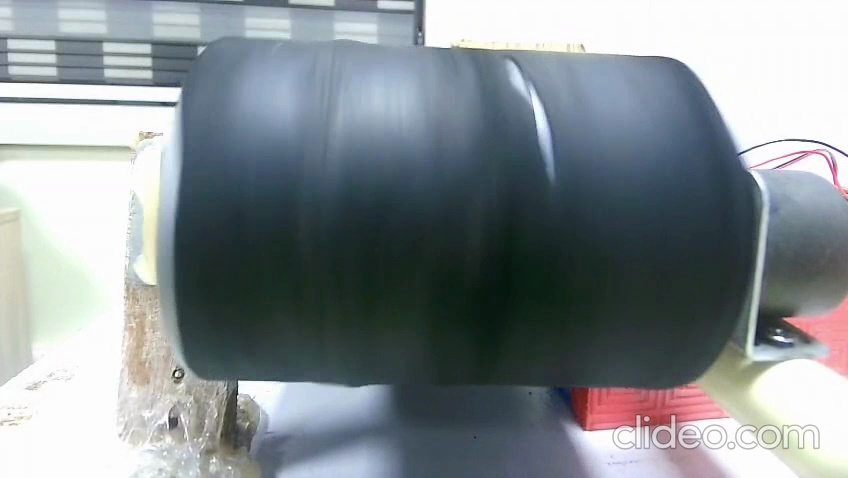tear: (501, 52, 561, 177)
